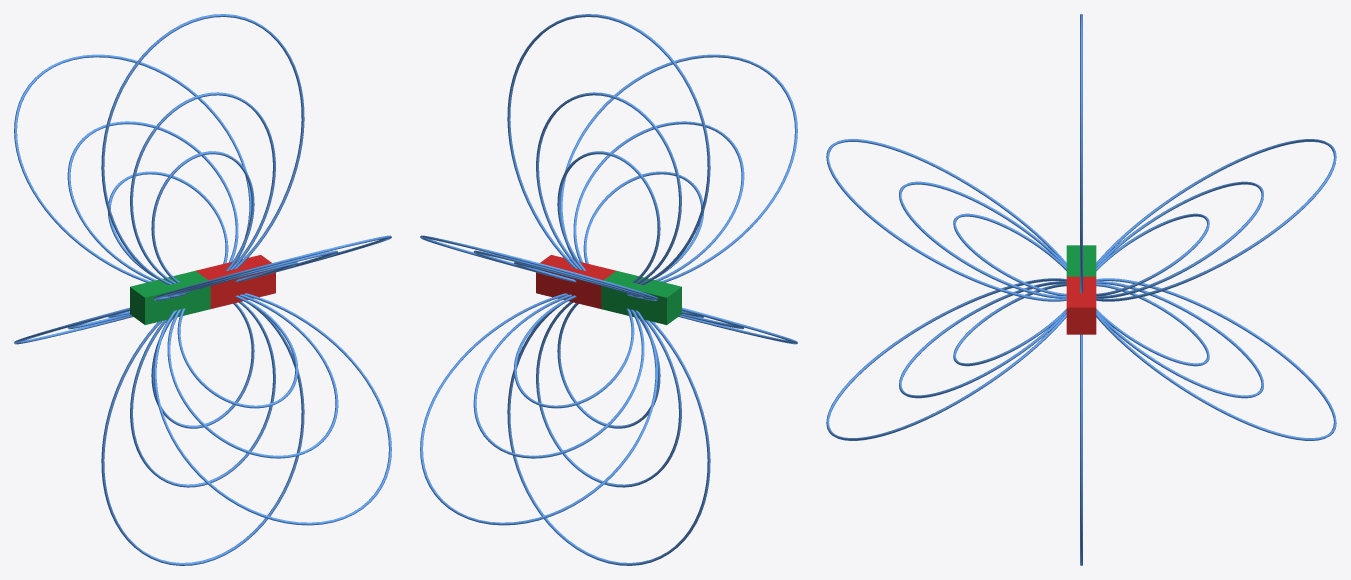
Rendered from magnet.glb.
The picture shows the model from 3 angles, left to right: view 1: azimuth 30°, elevation 25°; view 2: azimuth 150°, elevation 25°; view 3: azimuth 270°, elevation 25°; orthographic projection. The views are drawn at different scales.
Parts seen in each view (by area): view 1: Feldlinie (×15), Suedpol, Nordpol; view 2: Feldlinie (×15), Suedpol, Nordpol; view 3: Feldlinie (×14), Nordpol, Suedpol.
Part boxes in pixels (box(x1,y1,x2,y2)): Feldlinie (×15): box(14, 14, 391, 565); Suedpol: box(130, 270, 210, 324); Nordpol: box(196, 255, 275, 308); Feldlinie (×15): box(420, 14, 797, 565); Suedpol: box(601, 270, 681, 324); Nordpol: box(536, 255, 615, 308); Feldlinie (×14): box(826, 14, 1336, 565); Nordpol: box(1066, 276, 1096, 334); Suedpol: box(1066, 245, 1096, 276).
Bounding box in the file's own units: 0.9283 × 2.39 × 2.07.
